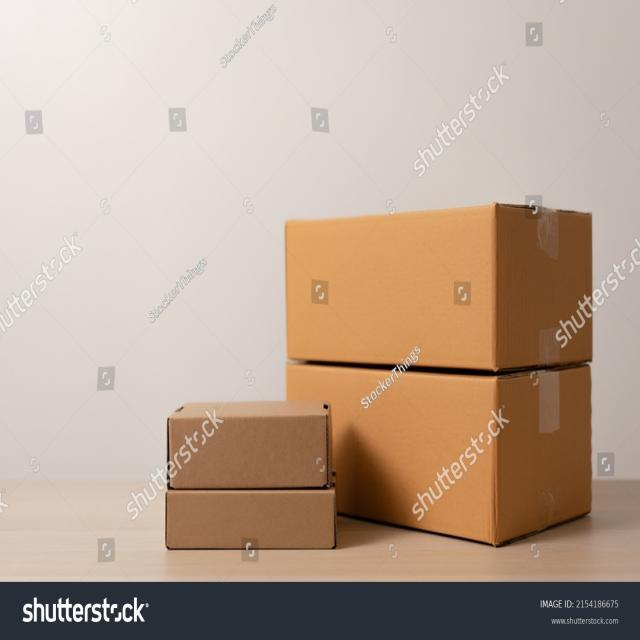BoxFace: (288, 364, 497, 544), (284, 200, 498, 372), (166, 408, 330, 488), (165, 486, 336, 550)
